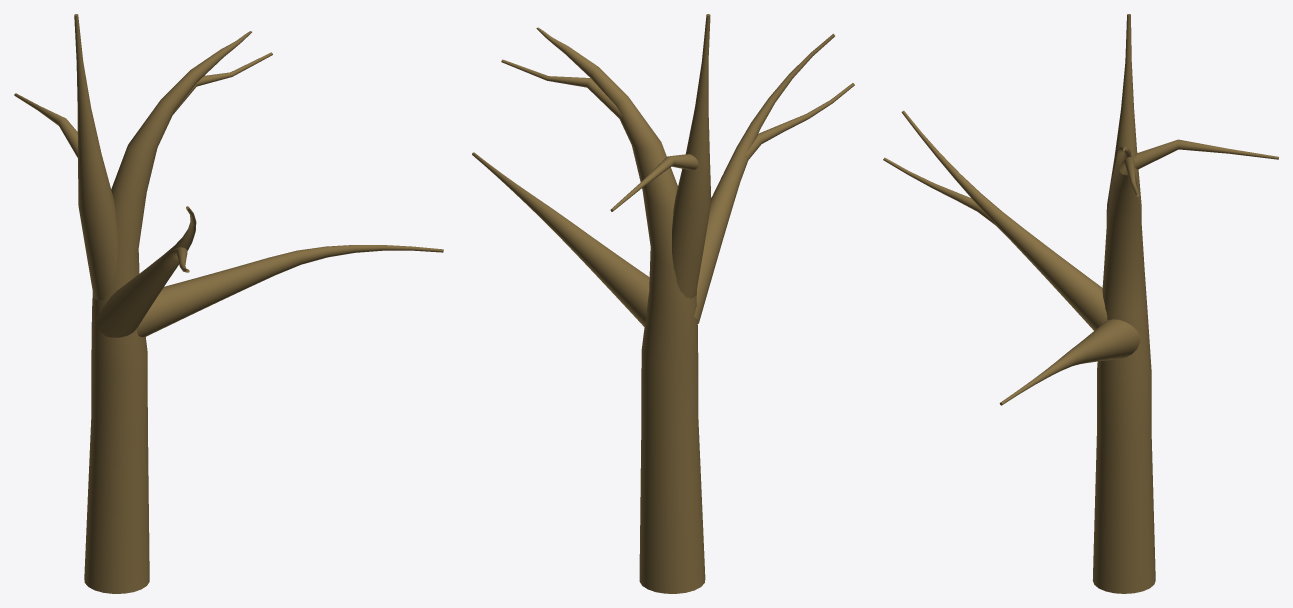
Rendered from Deadtree1.fbx.
3 views of the same model, side by side, from view 1: azimuth 30°, elevation 25°; view 2: azimuth 150°, elevation 25°; view 3: azimuth 270°, elevation 25° (orthographic). The views are drawn at different scales.
Visible parts, largest first — view 1: MainTrunk, Branch1, Branch4, Branch3, Branch2, Branch5, Branch6; view 2: MainTrunk, Branch1, Branch4, Branch2, Branch3, Branch6, Branch5; view 3: MainTrunk, Branch2, Branch3, Branch4, Branch1, Branch5.
Boxes of the visible parts, x1,y1,x2,y2 form: MainTrunk: [84, 31, 251, 593]; Branch1: [74, 14, 117, 301]; Branch4: [136, 245, 443, 337]; Branch3: [95, 247, 189, 337]; Branch2: [94, 206, 196, 337]; Branch5: [14, 93, 77, 157]; Branch6: [173, 52, 272, 114]; MainTrunk: [536, 27, 705, 593]; Branch1: [672, 14, 711, 299]; Branch4: [472, 152, 649, 326]; Branch2: [694, 33, 834, 321]; Branch3: [694, 83, 854, 323]; Branch6: [501, 59, 622, 118]; Branch5: [610, 154, 698, 211]; MainTrunk: [1092, 145, 1155, 593]; Branch2: [901, 110, 1107, 330]; Branch3: [883, 157, 1107, 330]; Branch4: [999, 319, 1140, 405]; Branch1: [1106, 14, 1141, 223]; Branch5: [1134, 139, 1278, 169].
Bounding box in the file's own units: 3.21 × 5.51 × 3.61.
